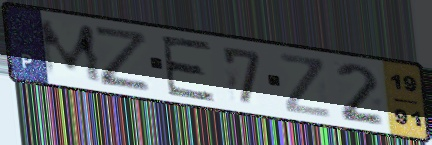2: (334, 62, 388, 128)
7: (219, 45, 263, 105)
E: (159, 34, 218, 104)
M: (35, 18, 106, 85)
Z: (91, 23, 153, 94), (276, 51, 335, 121)
